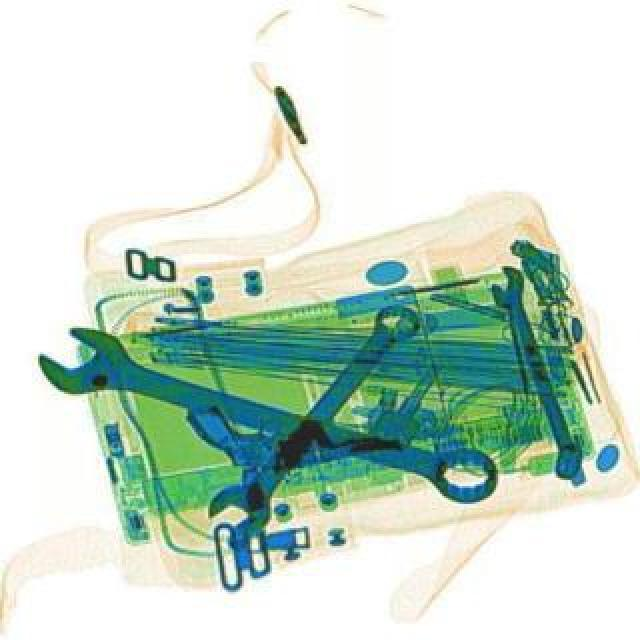gun: (188, 374, 416, 488)
scissors: (32, 318, 516, 522), (206, 292, 438, 548), (486, 266, 604, 492)
